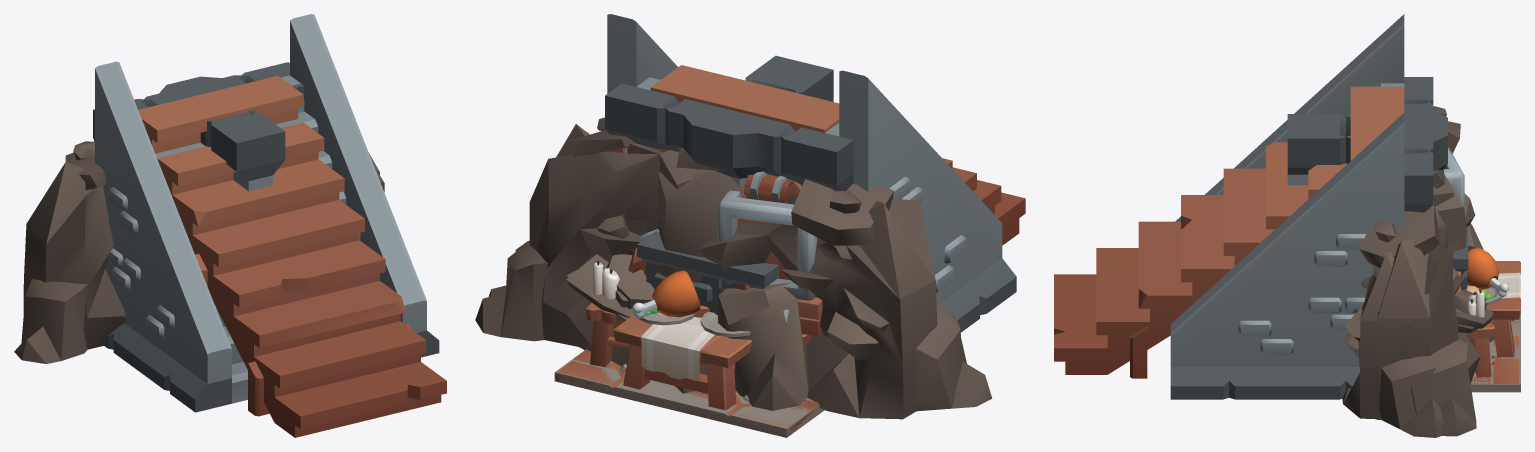
File: dungeon.glb
3 renders of one model, left to right at view 1: azimuth 30°, elevation 25°; view 2: azimuth 150°, elevation 25°; view 3: azimuth 270°, elevation 25°, orthographic. The views are drawn at different scales.
Parts seen in each view (by area): view 1: stairs_wood, stairs, rubble_large, wall_corner, wall_arched; view 2: rubble_large, rubble_half, stairs, table_long_tablecloth_decorated_A, stairs_wood, floor_tile_large, box_stacked, wall, wall_arched, wall_pillar, floor_foundation_allsides, wall_half (+6 smaller); view 3: stairs, stairs_wood, rubble_half, rubble_large, wall_corner, table_long_tablecloth_decorated_A, wall_arched, wall, bed_decorated, floor_wood_large, floor_tile_large, pillar_decorated (+3 smaller).
Part boxes in pixels (x1,y1,x2,y2): stairs_wood: [138, 76, 446, 437]; stairs: [95, 14, 439, 412]; rubble_large: [14, 141, 384, 363]; wall_corner: [200, 109, 285, 191]; wall_arched: [93, 62, 303, 141]; rubble_large: [488, 132, 992, 419]; rubble_half: [475, 117, 695, 366]; stairs: [607, 14, 1016, 332]; table_long_tablecloth_decorated_A: [613, 270, 752, 410]; stairs_wood: [650, 65, 1025, 245]; floor_tile_large: [554, 359, 823, 437]; box_stacked: [675, 171, 817, 393]; wall: [615, 87, 853, 190]; wall_arched: [605, 75, 853, 190]; wall_pillar: [657, 108, 848, 187]; floor_foundation_allsides: [637, 229, 779, 315]; wall_half: [605, 95, 683, 151]; stairs: [1170, 14, 1404, 399]; stairs_wood: [1054, 86, 1404, 378]; rubble_half: [1359, 184, 1492, 436]; rubble_large: [1342, 106, 1493, 437]; wall_corner: [1287, 99, 1424, 185]; table_long_tablecloth_decorated_A: [1467, 247, 1520, 357]; wall_arched: [1375, 77, 1433, 211]; wall: [1404, 145, 1433, 212]; bed_decorated: [1464, 289, 1494, 377]; floor_wood_large: [1471, 319, 1520, 385]; floor_tile_large: [1470, 299, 1520, 385]; pillar_decorated: [1404, 113, 1447, 144].
Bounding box in the file's own units: 8.13 × 5.91 × 8.
1 material, 1 textured.
